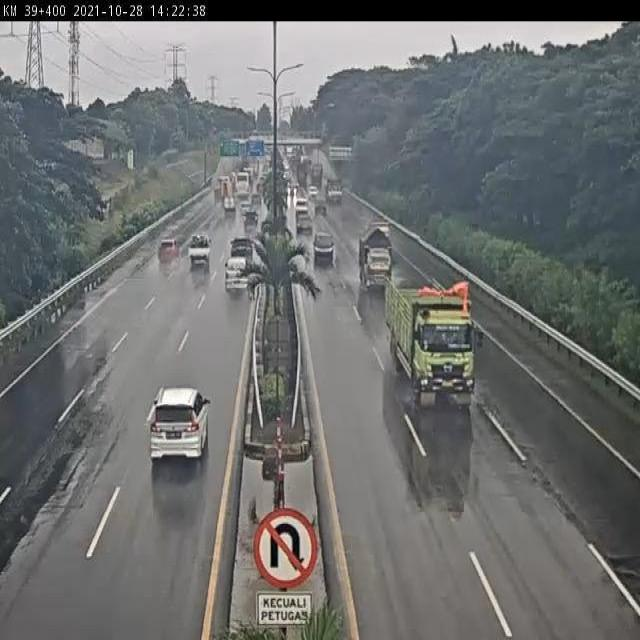truck-l-: (384, 284, 478, 400)
truck-s-: (359, 224, 398, 295)
